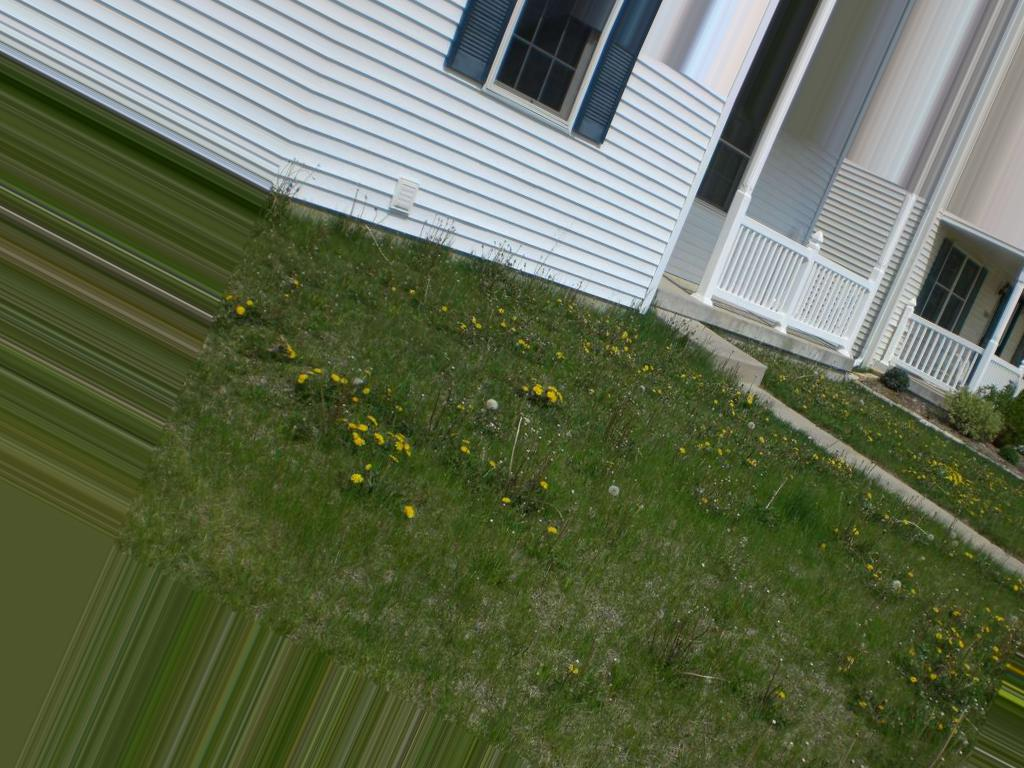patch: (536, 577, 567, 619)
